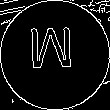M_S: (31, 29, 79, 81)
